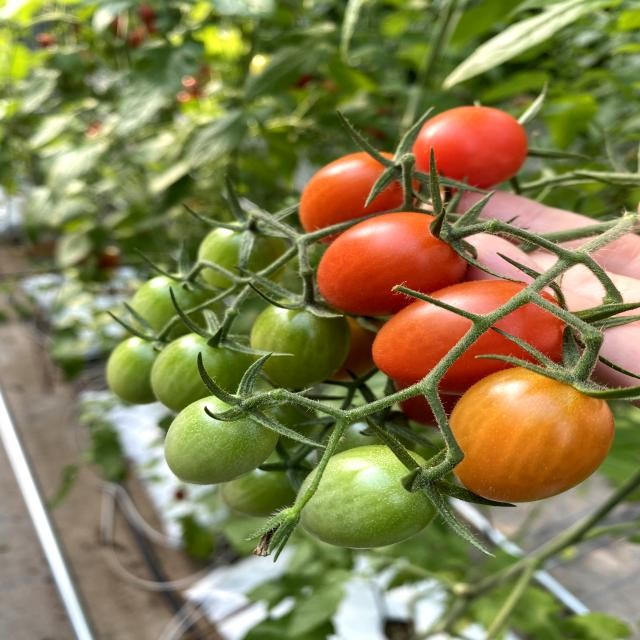ripe0: (298, 445, 442, 549), (163, 394, 279, 484), (249, 298, 352, 389), (197, 220, 288, 294), (153, 331, 242, 405)
ripe2: (371, 279, 568, 384), (317, 212, 461, 306), (412, 106, 528, 186), (299, 149, 399, 220)
